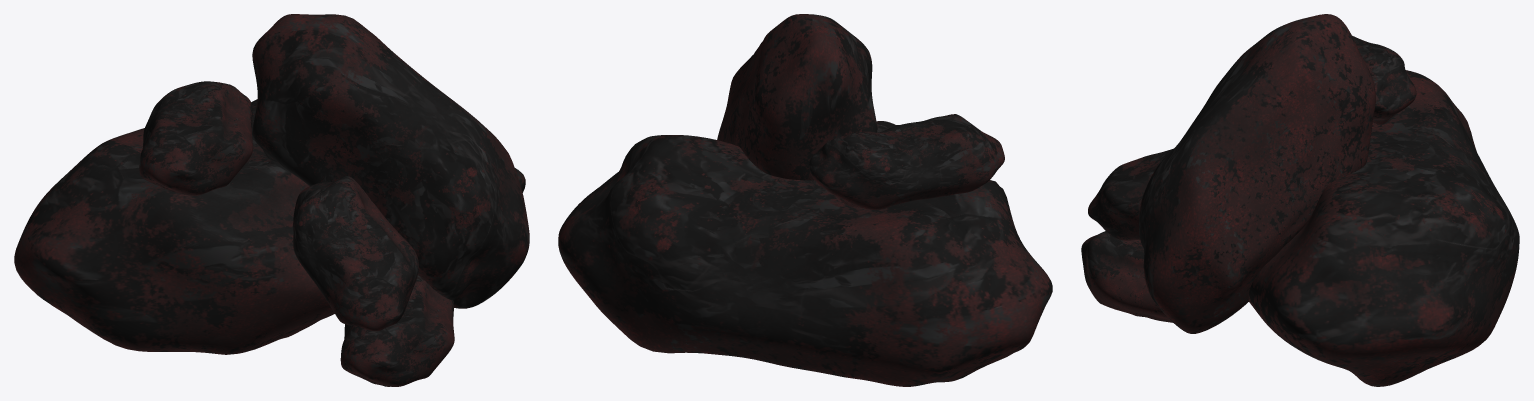
The model's file is Rock Group textured .fbx.
3 renders of one model, left to right at view 1: azimuth 30°, elevation 25°; view 2: azimuth 150°, elevation 25°; view 3: azimuth 270°, elevation 25°, orthographic.
Visible parts, largest first — view 1: group_pasted__pPlatonic1; view 2: group_pasted__pPlatonic1; view 3: group_pasted__pPlatonic1.
Part boxes in pixels (x1,y1,x2,y2): group_pasted__pPlatonic1: (14, 14, 529, 386); group_pasted__pPlatonic1: (558, 14, 1052, 386); group_pasted__pPlatonic1: (1081, 14, 1519, 386).
Size of the model in its own units: 31.72 by 20.28 by 25.98.
Materials: 1 (1 with a texture image).
